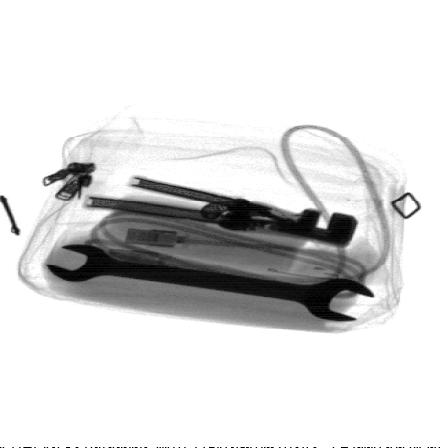Pliers: (81, 176, 359, 247)
Wrench: (46, 243, 379, 323)
